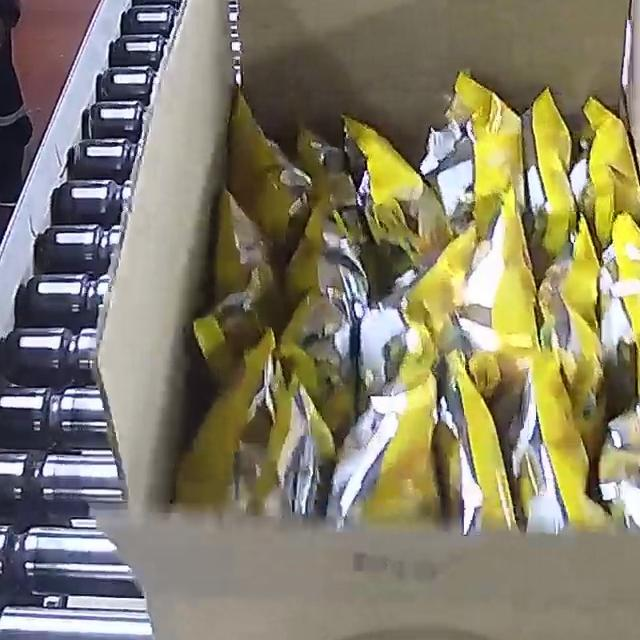salted: (205, 79, 640, 545)
